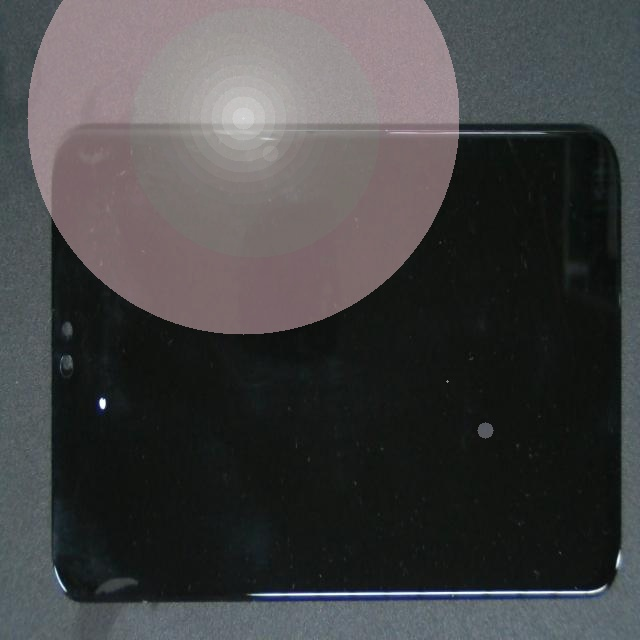stain: (47, 184, 142, 559)
